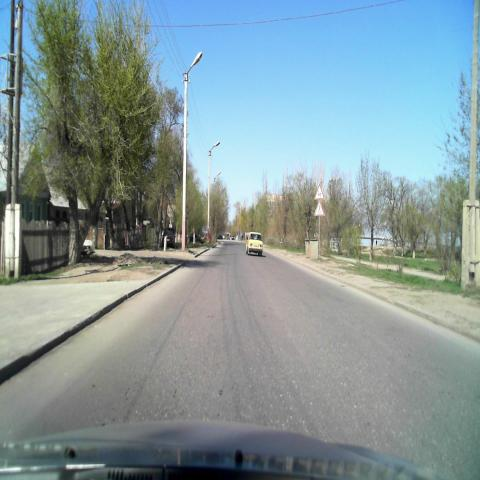1_12_2: (314, 183, 324, 200)
